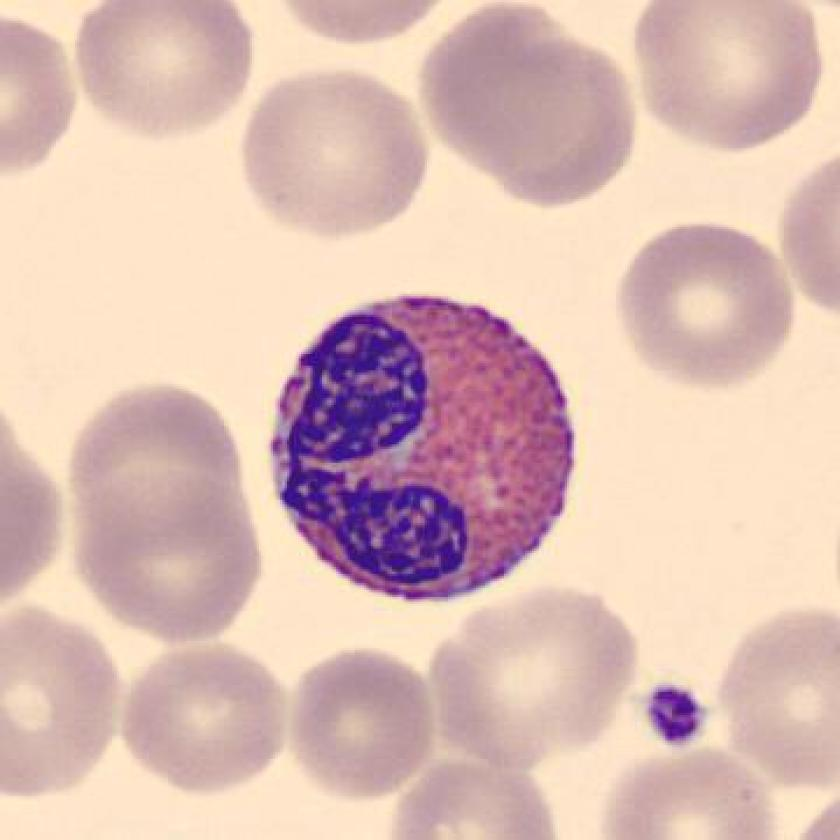eosinophil: (258, 277, 596, 622)
